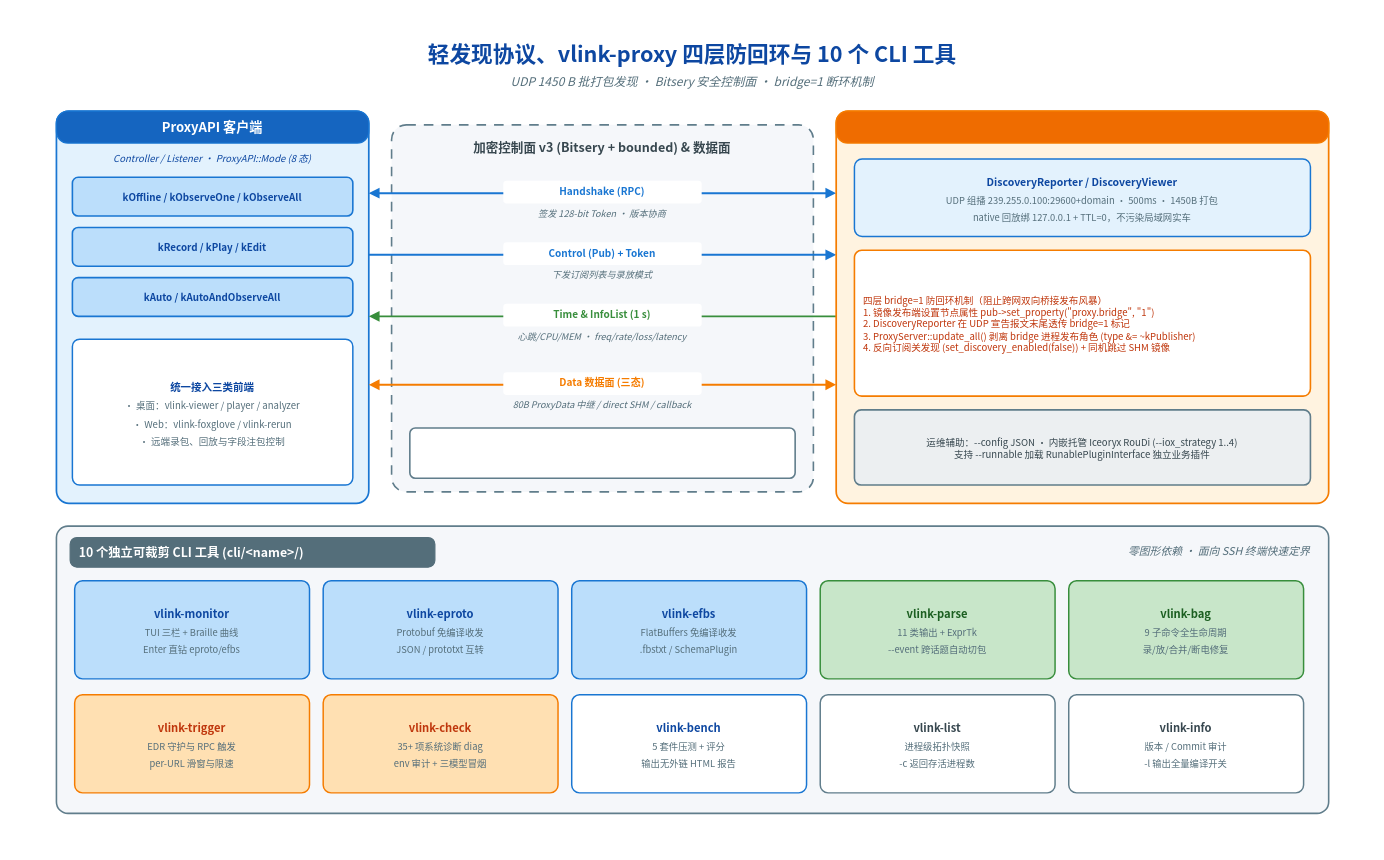
Image size: 1384x860. Some labels were removed from this diagram. Each missing label, with the centre of its shape:
"5 s 无心跳判定断线，重连自动恢复 last_control" goes at point 601,452.
"ProxyServer (vlink-proxy) & Discovery" goes at point 1082,126.
